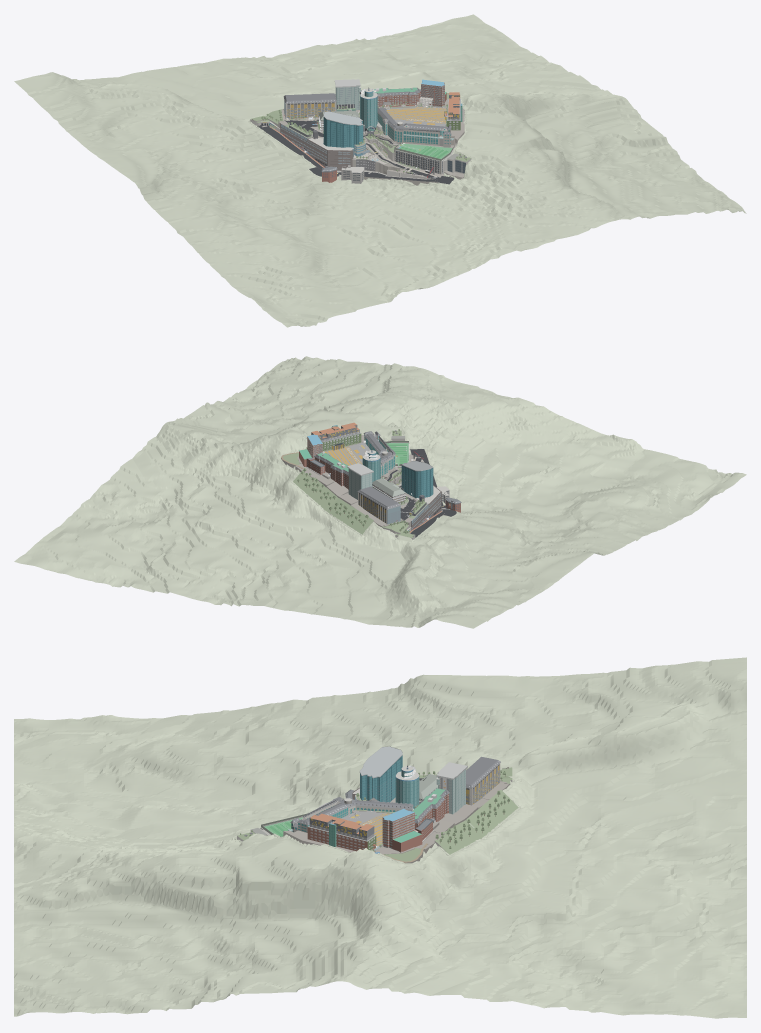
The model's file is campus.glb.
3 views of the same model, one above another, from view 1: azimuth 30°, elevation 25°; view 2: azimuth 150°, elevation 25°; view 3: azimuth 270°, elevation 25° (orthographic). The views are drawn at different scales.
Visible parts, largest first — view 1: ground, structures, b|북악관, b|수인관, surfaces, b|은주관#접합부-남서날개, b|한림관#고리, b|대일관, b|청운관; view 2: ground, structures, b|북악관, surfaces, b|유담관, b|문예관, b|대일관, b|본관; view 3: ground, structures, b|북악관, b|청운관, b|혜인관, b|한림관#고리, b|혜인관#옥상상자, surfaces, b|유담관#탑6, b|문예관, b|대일관.
Boxes of the visible parts, x1,y1,x2,y2 form: ground: (14, 14, 746, 327); structures: (250, 79, 471, 185); b|북악관: (283, 93, 336, 118); b|수인관: (394, 143, 452, 173); surfaces: (248, 94, 471, 185); b|은주관#접합부-남서날개: (396, 127, 439, 145); b|한림관#고리: (360, 92, 377, 131); b|대일관: (359, 87, 419, 107); b|청운관: (421, 79, 444, 106); ground: (14, 356, 746, 628); structures: (281, 429, 456, 539); b|북악관: (357, 486, 401, 524); surfaces: (279, 431, 458, 541); b|유담관: (414, 466, 433, 498); b|문예관: (348, 468, 372, 499); b|대일관: (314, 453, 348, 489); b|본관: (372, 478, 405, 503); ground: (14, 657, 746, 1018); structures: (237, 762, 518, 863); b|북악관: (466, 756, 500, 804); b|청운관: (382, 808, 414, 848); b|혜인관: (307, 826, 376, 851); b|한림관#고리: (395, 771, 419, 808); b|혜인관#옥상상자: (309, 813, 362, 837); surfaces: (234, 776, 520, 864); b|유담관#탑6: (359, 769, 381, 801); b|문예관: (438, 769, 465, 814); b|대일관: (412, 788, 449, 830).
Bounding box in the file's own units: 896 × 153 × 924.
